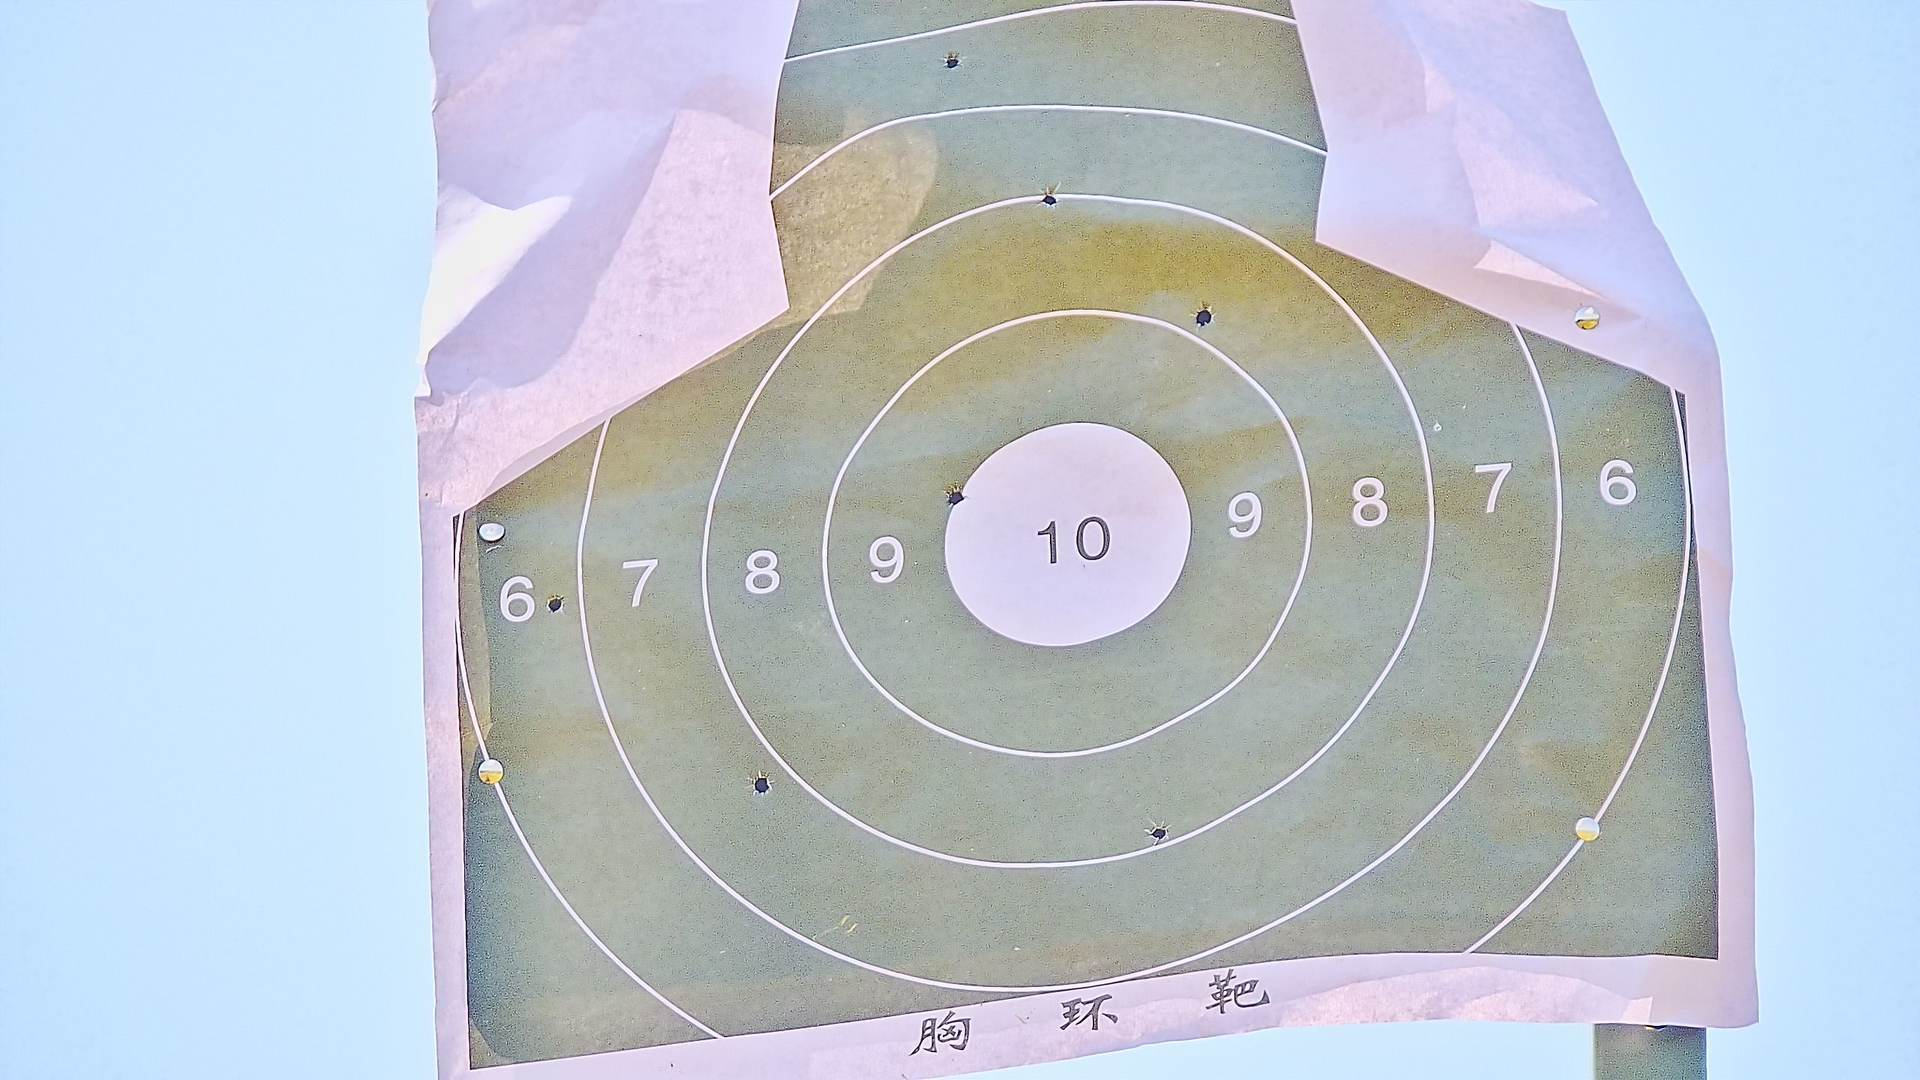hole: (1193, 305, 1215, 326), (945, 487, 967, 506), (545, 593, 564, 613), (753, 775, 771, 794), (1147, 825, 1170, 840), (1039, 193, 1059, 207), (943, 54, 961, 69)
kernel: (1065, 535, 1069, 541)
target: (454, 5, 1713, 1069)
ten: (942, 425, 1188, 653)
